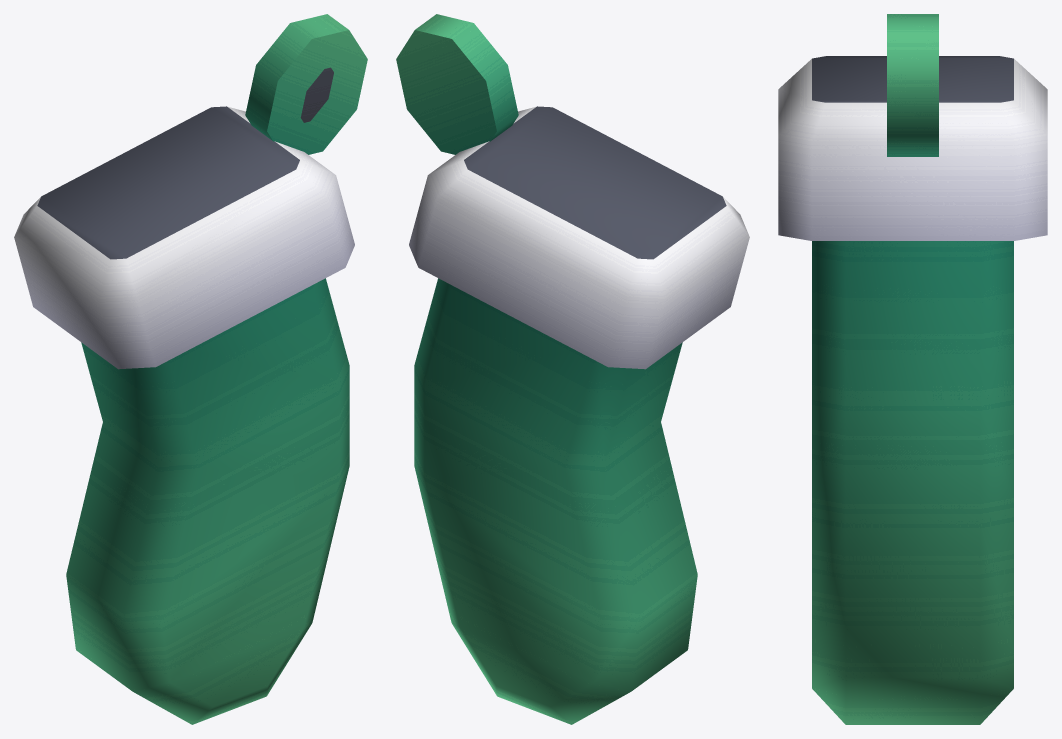
Rendered from sock-green.glb.
3 renders of one model, left to right at view 1: azimuth 30°, elevation 25°; view 2: azimuth 150°, elevation 25°; view 3: azimuth 270°, elevation 25°, orthographic. The views are drawn at different scales.
Parts seen in each view (by area): view 1: sock-green; view 2: sock-green; view 3: sock-green.
Boxes of the visible parts, <box> form: sock-green: <box>14,14,367,724</box>; sock-green: <box>396,14,749,724</box>; sock-green: <box>778,14,1047,724</box>.
Size of the model in its own units: 0.9182 by 1.87 by 0.6.
1 material, 1 textured.
